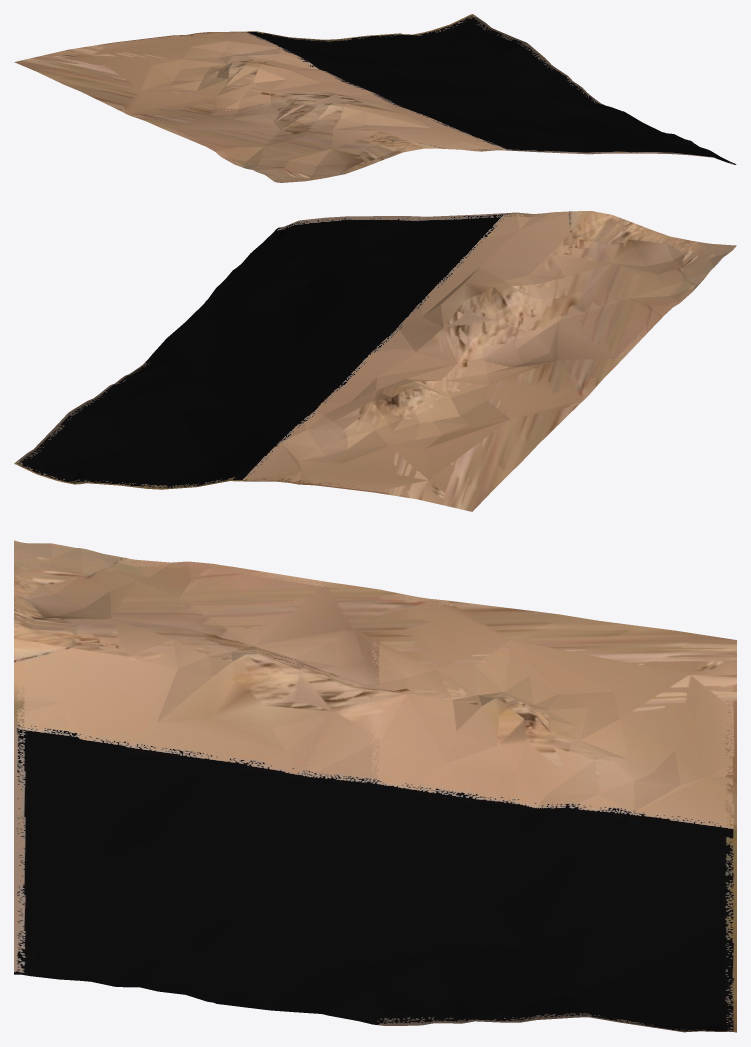
3 views of the same model, one above another, from view 1: azimuth 30°, elevation 25°; view 2: azimuth 150°, elevation 25°; view 3: azimuth 270°, elevation 25° (orthographic). The views are drawn at different scales.
Size of the model in its own units: 2.09 by 0.6243 by 2.09.
2 materials, 2 textured.
